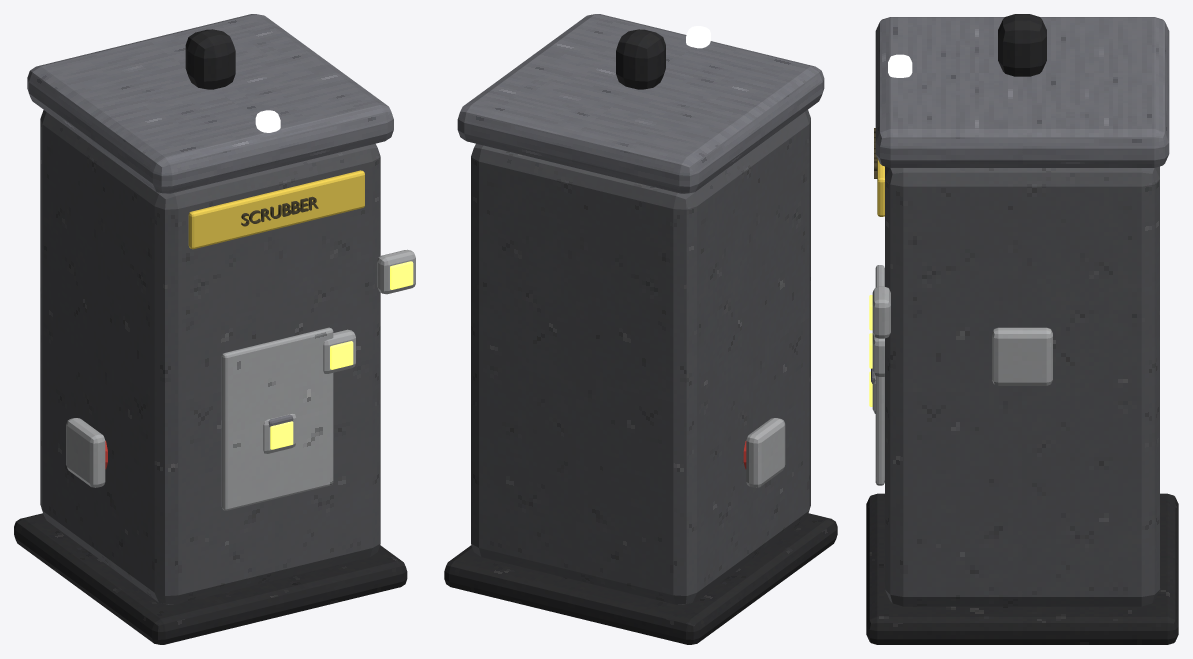
File: decor_eng_filtration_scrubber.glb
3 views of the same model, side by side, from view 1: azimuth 30°, elevation 25°; view 2: azimuth 150°, elevation 25°; view 3: azimuth 270°, elevation 25° (orthographic). The views are drawn at different scales.
Parts seen in each view (by area): view 1: DEC_EngFiltrationScrubber__Main_Body, DEC_EngFiltrationScrubber__Cap_Top, DEC_EngFiltrationScrubber__Access_Hatch, DEC_EngFiltrationScrubber__Base_Plate, DEC_EngFiltrationScrubber__Header_Band, DEC_EngFiltrationScrubber__Vent_Stack, DEC_EngFiltrationScrubber__Intake_Flange, DEC_EngFiltrationScrubber__Gauge_Body_3, DEC_EngFiltrationScrubber__Header_Text, DEC_EngFiltrationScrubber__Gauge_Body_2, DEC_EngFiltrationScrubber__Gauge_Face_3, DEC_EngFiltrationScrubber__Gauge_Face_2 (+1 smaller); view 2: DEC_EngFiltrationScrubber__Main_Body, DEC_EngFiltrationScrubber__Cap_Top, DEC_EngFiltrationScrubber__Base_Plate, DEC_EngFiltrationScrubber__Vent_Stack, DEC_EngFiltrationScrubber__Intake_Flange; view 3: DEC_EngFiltrationScrubber__Main_Body, DEC_EngFiltrationScrubber__Cap_Top, DEC_EngFiltrationScrubber__Base_Plate, DEC_EngFiltrationScrubber__Outtake_Flange, DEC_EngFiltrationScrubber__Vent_Stack, DEC_EngFiltrationScrubber__Access_Hatch, DEC_EngFiltrationScrubber__Gauge_Body_3, DEC_EngFiltrationScrubber__Status_Lamp, DEC_EngFiltrationScrubber__Gauge_Body_2.
Boxes of the visible parts, box(x1,y1,x2,y2) form: DEC_EngFiltrationScrubber__Main_Body: box(40, 110, 380, 604); DEC_EngFiltrationScrubber__Cap_Top: box(27, 14, 393, 193); DEC_EngFiltrationScrubber__Access_Hatch: box(221, 327, 333, 510); DEC_EngFiltrationScrubber__Base_Plate: box(14, 513, 407, 644); DEC_EngFiltrationScrubber__Header_Band: box(188, 170, 364, 249); DEC_EngFiltrationScrubber__Vent_Stack: box(185, 29, 235, 89); DEC_EngFiltrationScrubber__Intake_Flange: box(66, 418, 105, 487); DEC_EngFiltrationScrubber__Gauge_Body_3: box(377, 249, 415, 294); DEC_EngFiltrationScrubber__Header_Text: box(241, 196, 318, 226); DEC_EngFiltrationScrubber__Gauge_Body_2: box(323, 329, 355, 373); DEC_EngFiltrationScrubber__Gauge_Face_3: box(390, 261, 413, 289); DEC_EngFiltrationScrubber__Gauge_Face_2: box(330, 341, 353, 369); DEC_EngFiltrationScrubber__Main_Body: box(471, 110, 810, 604); DEC_EngFiltrationScrubber__Cap_Top: box(457, 14, 824, 193); DEC_EngFiltrationScrubber__Base_Plate: box(444, 513, 837, 644); DEC_EngFiltrationScrubber__Vent_Stack: box(616, 29, 665, 89); DEC_EngFiltrationScrubber__Intake_Flange: box(746, 418, 785, 487); DEC_EngFiltrationScrubber__Main_Body: box(885, 166, 1159, 606); DEC_EngFiltrationScrubber__Cap_Top: box(875, 17, 1169, 167); DEC_EngFiltrationScrubber__Base_Plate: box(866, 493, 1178, 644); DEC_EngFiltrationScrubber__Outtake_Flange: box(992, 327, 1052, 385); DEC_EngFiltrationScrubber__Vent_Stack: box(998, 14, 1046, 76); DEC_EngFiltrationScrubber__Access_Hatch: box(875, 265, 884, 485); DEC_EngFiltrationScrubber__Gauge_Body_3: box(872, 286, 890, 338); DEC_EngFiltrationScrubber__Status_Lamp: box(888, 54, 912, 77); DEC_EngFiltrationScrubber__Gauge_Body_2: box(872, 333, 884, 376).
Size of the model in its own units: 1.08 by 2.04 by 1.02.
Materials: 10 (4 with a texture image).
